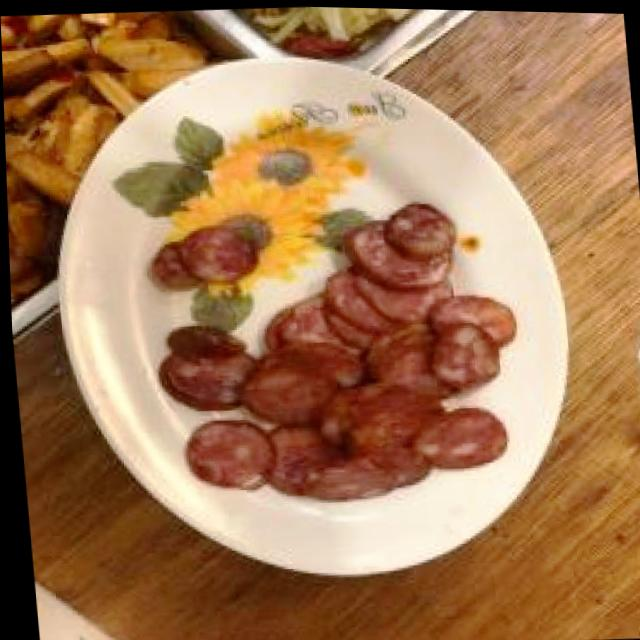chinese_sausage: (146, 193, 531, 510)
